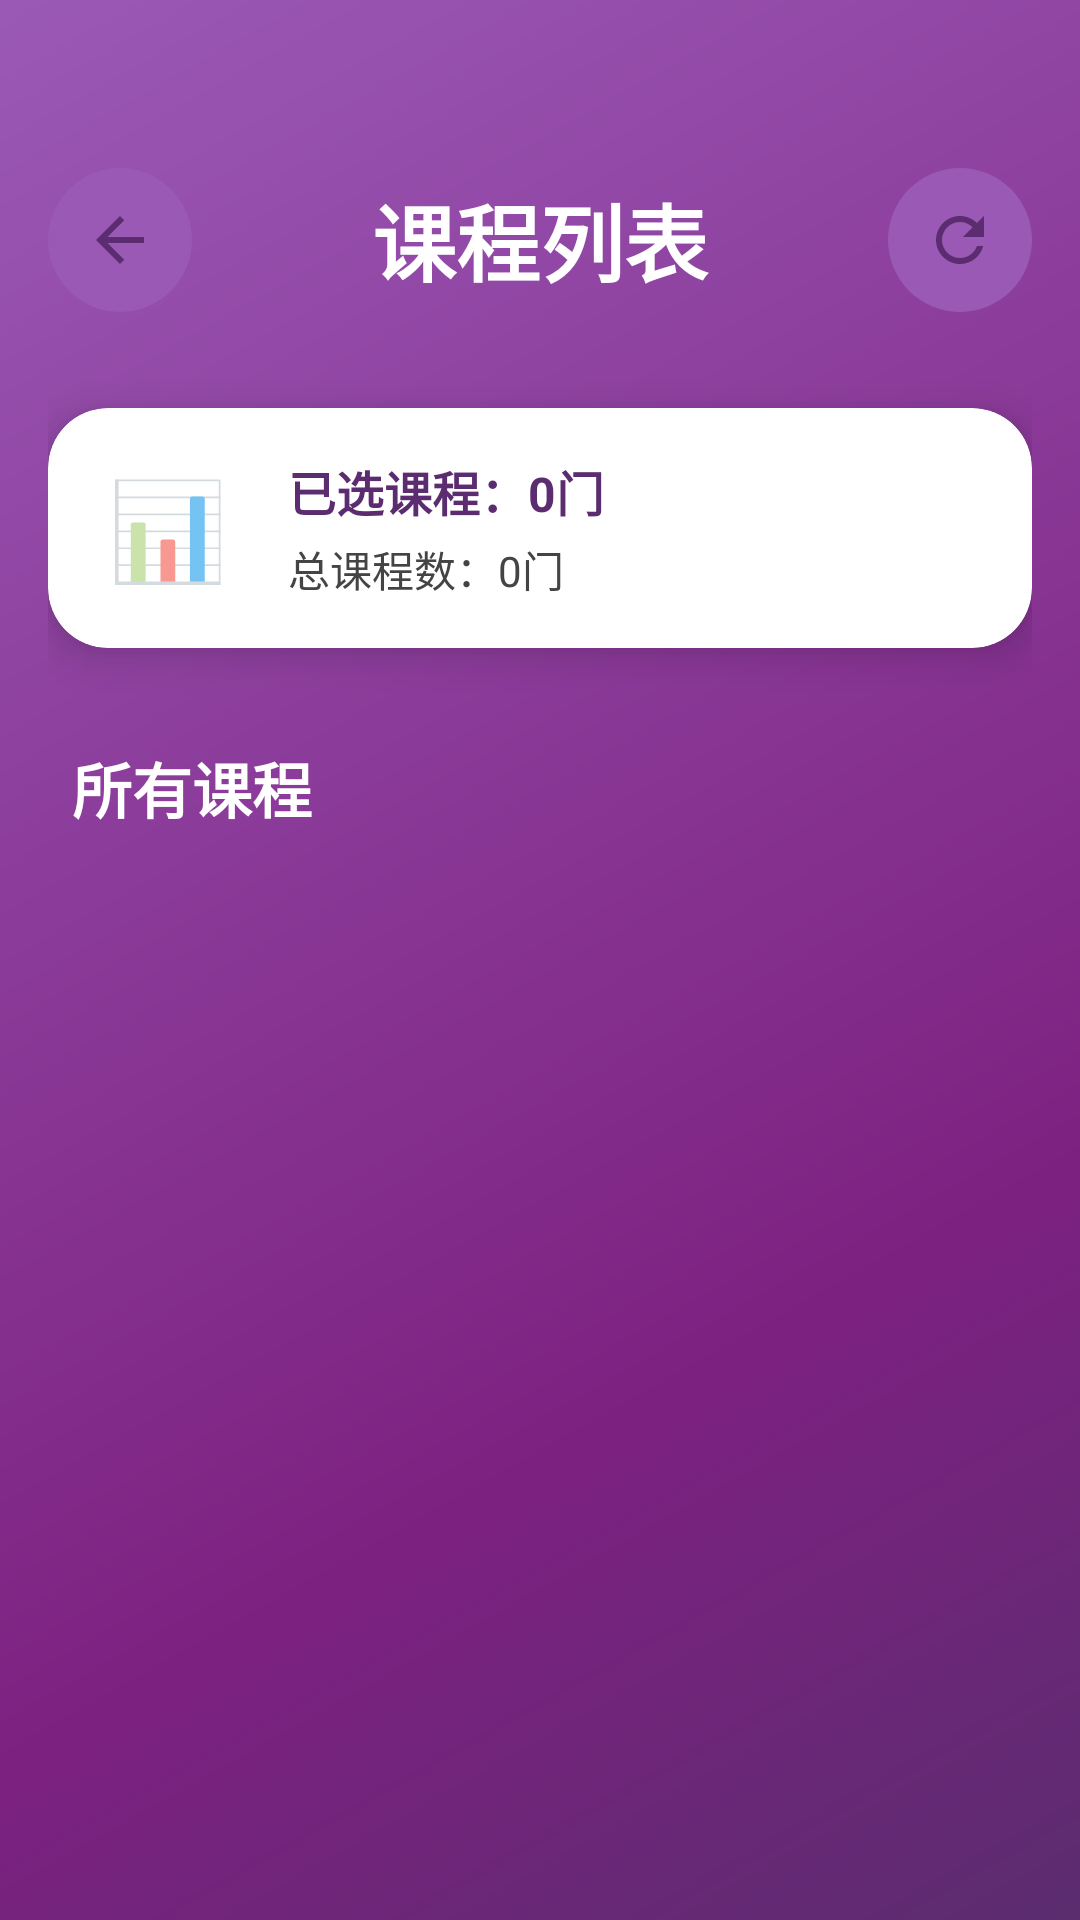

Screen size 1080 x 1920. Icon name, then its center in pixels as (x=x, y=y):
返回: (x=120, y=240)
